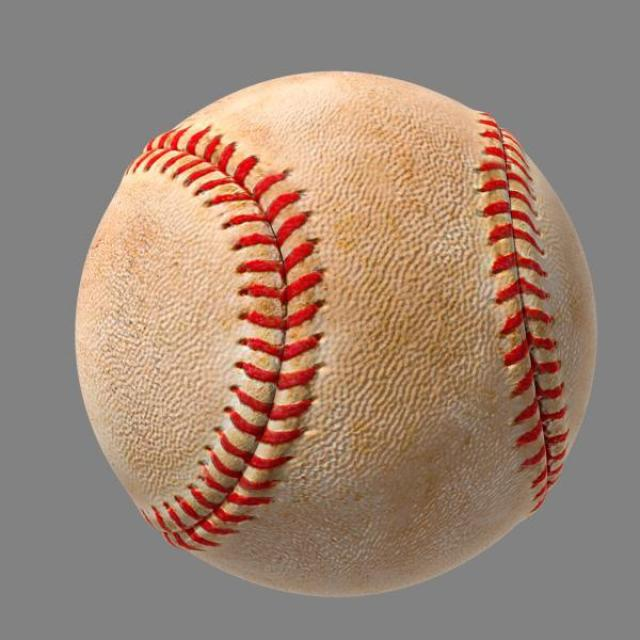beisbol ball: (77, 72, 602, 600)
